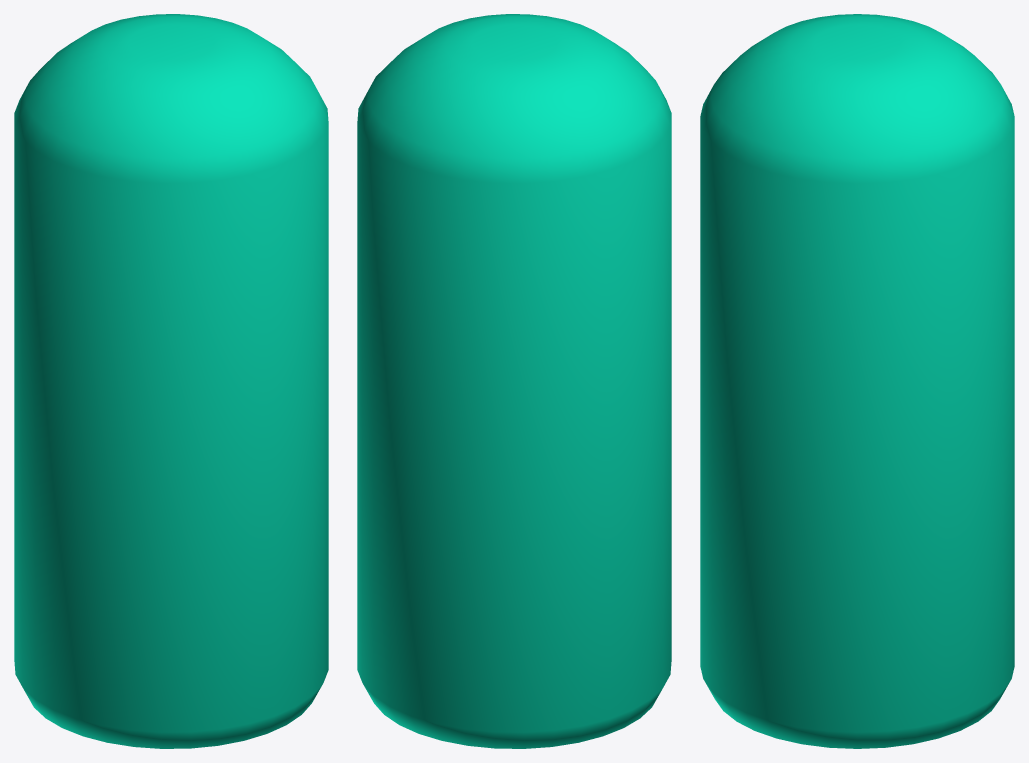
Rendered from tail_lac.glb.
3 renders of one model, left to right at view 1: azimuth 30°, elevation 25°; view 2: azimuth 150°, elevation 25°; view 3: azimuth 270°, elevation 25°, orthographic.
Parts seen in each view (by area): view 1: Cylinder; view 2: Cylinder; view 3: Cylinder.
Part boxes in pixels (<box>): Cylinder: <box>14,14,328,748</box>; Cylinder: <box>357,14,671,748</box>; Cylinder: <box>700,14,1014,748</box>.
Bounding box in the file's own units: 0.1 × 0.226 × 0.1.
